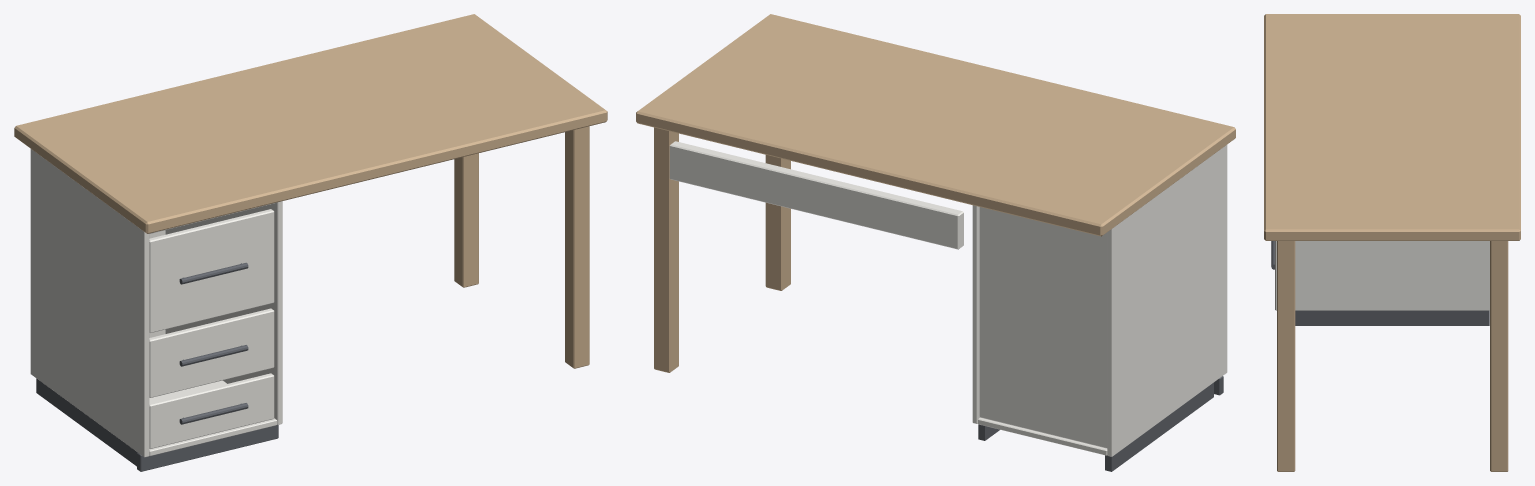
The model's file is desk.glb.
3 views of the same model, side by side, from view 1: azimuth 30°, elevation 25°; view 2: azimuth 150°, elevation 25°; view 3: azimuth 270°, elevation 25° (orthographic). The views are drawn at different scales.
Parts seen in each view (by area): view 1: WL_38795; view 2: WL_38795; view 3: WL_38795.
Part boxes in pixels (bbox=[...]): WL_38795: bbox=[14, 14, 607, 471]; WL_38795: bbox=[636, 14, 1235, 471]; WL_38795: bbox=[1264, 14, 1520, 471].
Bounding box in the file's own units: 1.4 × 0.7451 × 0.7001.
